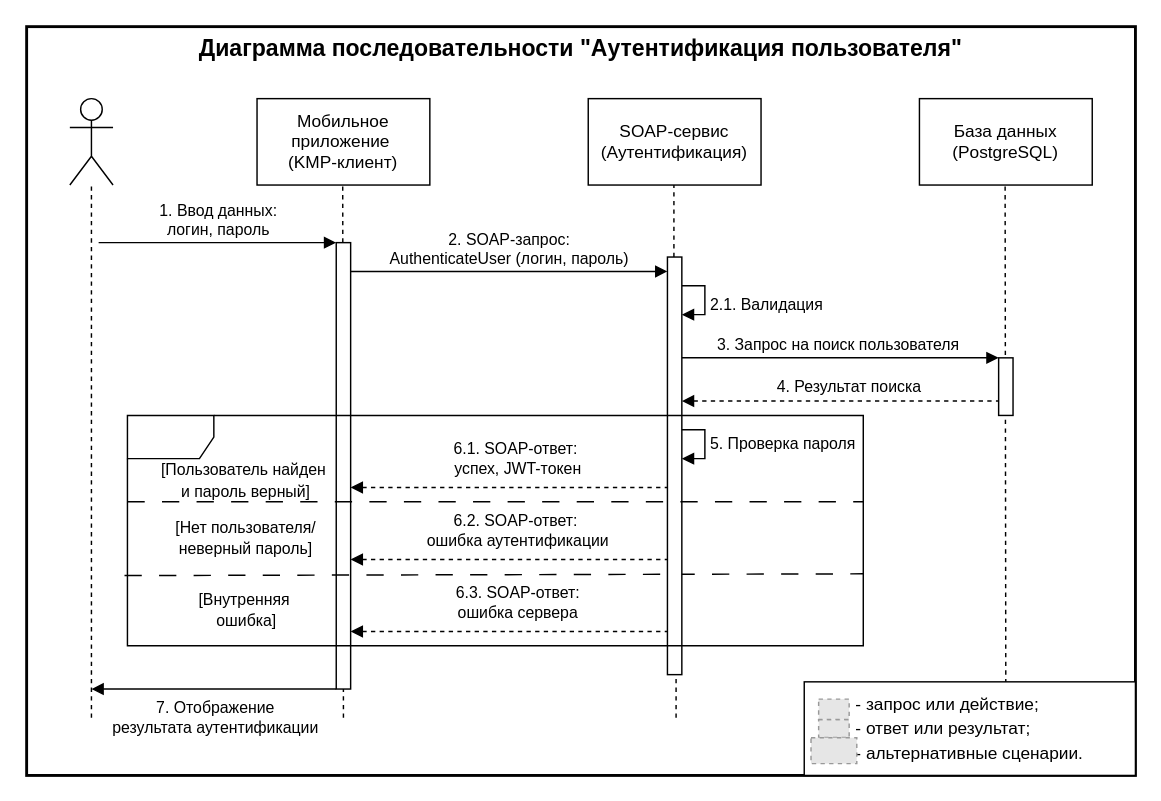
Some shapes in this 1161 by 801 pixel diagram are drawn without their labels. Grey dashed boxes stand in for pictures. Here are the shapes that lost their labels. From the top down, the centre of each, then its label:
At point 90,141: "Пользователь".
At point 494,530: "alt".
